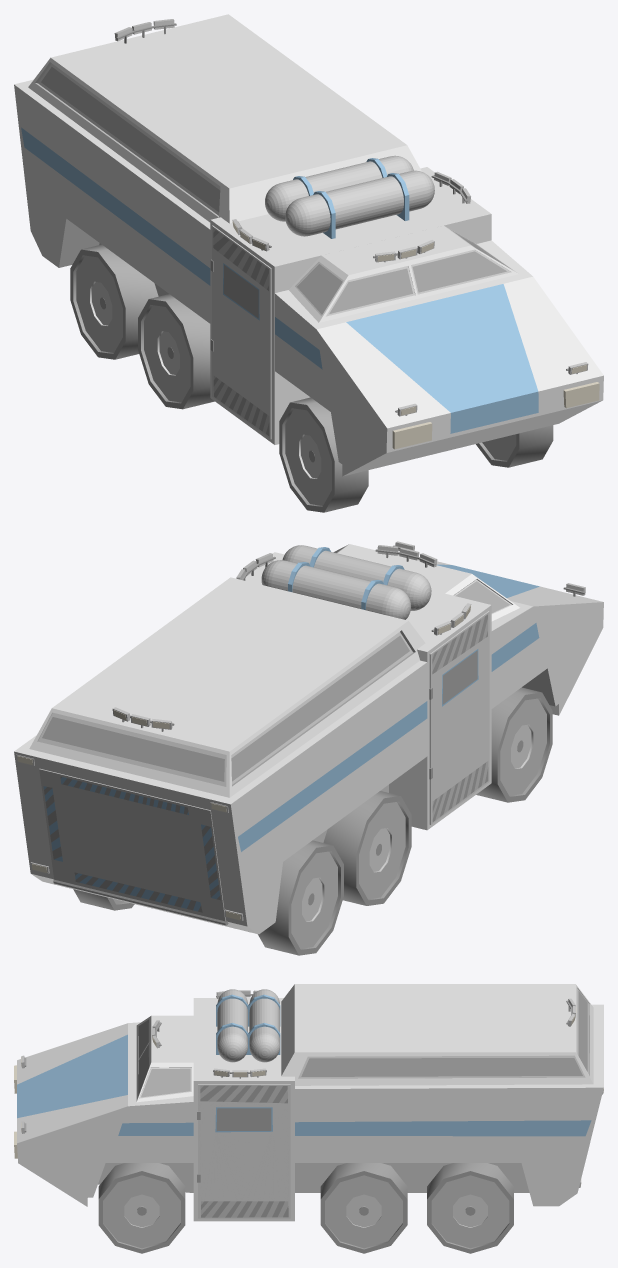
File: kar1_2.fbx
3 renders of one model, top to bottom at view 1: azimuth 30°, elevation 25°; view 2: azimuth 150°, elevation 25°; view 3: azimuth 270°, elevation 25°, orthographic. The views are drawn at different scales.
Parts seen in each view (by area): view 1: Cylinder, Boole_2, Boole_2_2, Boole_2_3, Boole_2_6; view 2: Cylinder, Boole_2_2, Boole_2, Boole_2_3, Boole_2_4; view 3: Cylinder, Boole_2_6, Boole_2_5, Boole_2_4.
Boxes of the visible parts, bbox=[...] form: Cylinder: bbox=[14, 14, 603, 476]; Boole_2: bbox=[70, 244, 158, 359]; Boole_2_2: bbox=[138, 294, 214, 409]; Boole_2_3: bbox=[279, 397, 368, 512]; Boole_2_6: bbox=[476, 425, 553, 467]; Cylinder: bbox=[14, 541, 603, 934]; Boole_2_2: bbox=[323, 791, 411, 905]; Boole_2: bbox=[258, 840, 343, 955]; Boole_2_3: bbox=[476, 687, 552, 802]; Boole_2_4: bbox=[73, 889, 134, 910]; Cylinder: bbox=[14, 984, 603, 1221]; Boole_2_6: bbox=[98, 1163, 185, 1253]; Boole_2_5: bbox=[320, 1163, 407, 1253]; Boole_2_4: bbox=[427, 1163, 513, 1253].
Bounding box in the file's own units: 305 × 341 × 900.
